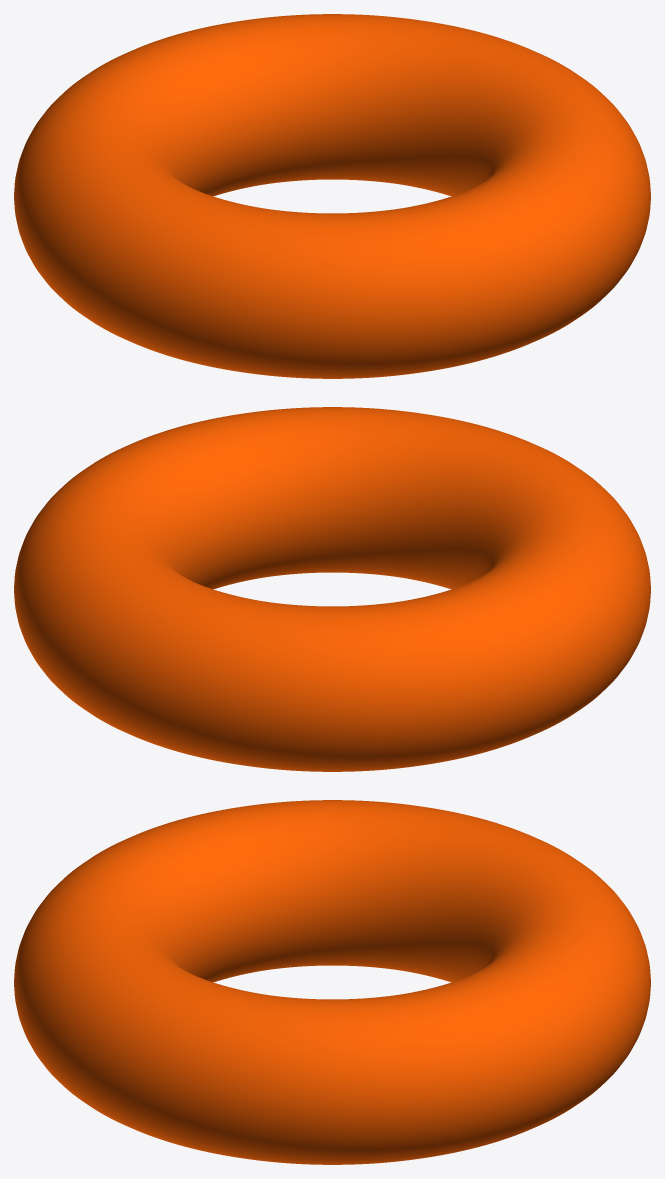
3 views of the same model, one above another, from view 1: azimuth 30°, elevation 25°; view 2: azimuth 150°, elevation 25°; view 3: azimuth 270°, elevation 25° (orthographic).
Visible parts, largest first — view 1: Torus; view 2: Torus; view 3: Torus.
Part boxes in pixels (bbox=[...]): Torus: bbox=[14, 14, 650, 378]; Torus: bbox=[14, 407, 650, 771]; Torus: bbox=[14, 800, 650, 1164].
Bounding box in the file's own units: 2.42 × 0.6305 × 2.42.
